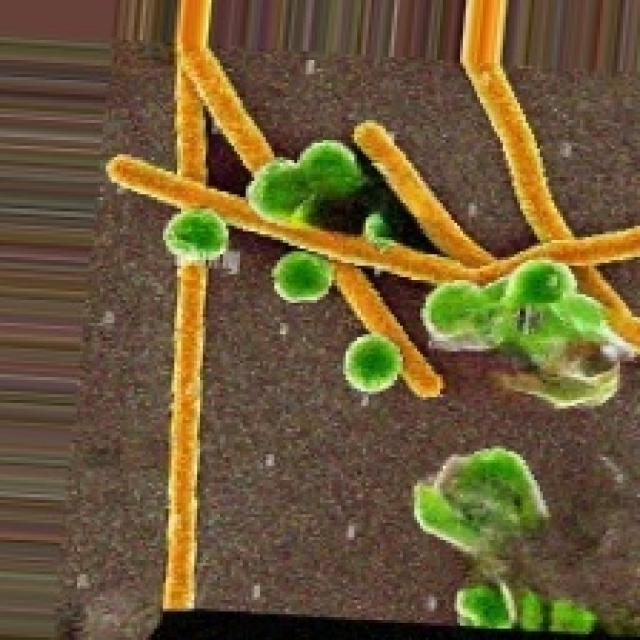Rod_bacteria: (100, 0, 637, 626)
